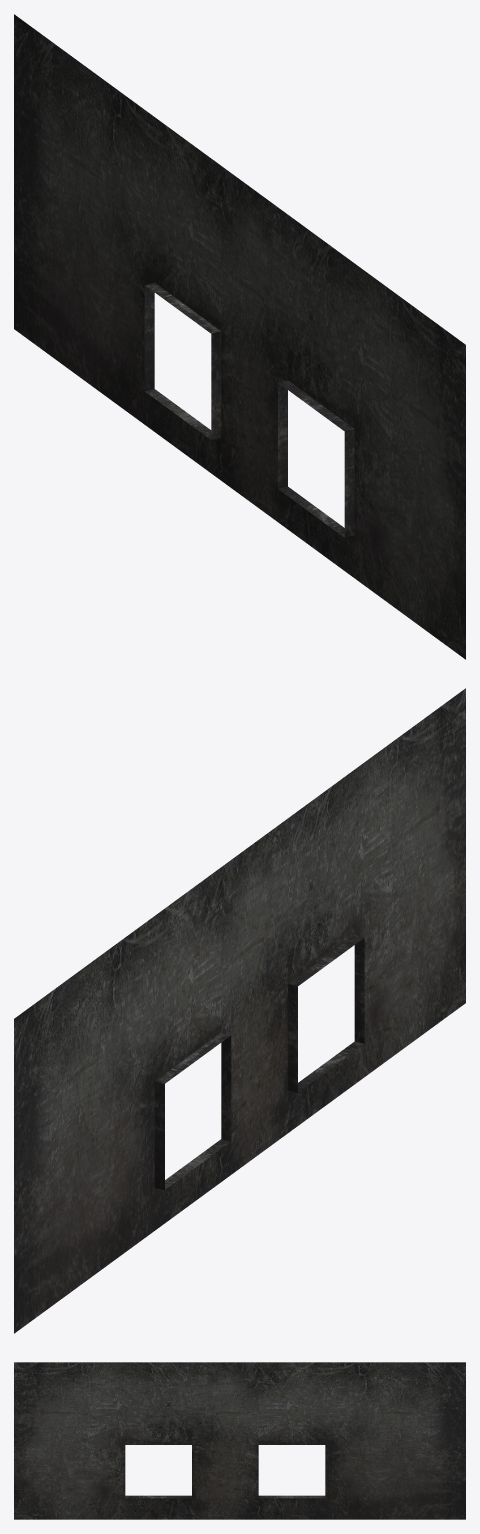
Rendered from Wall_01.FBX.
3 renders of one model, top to bottom at view 1: azimuth 30°, elevation 25°; view 2: azimuth 150°, elevation 25°; view 3: azimuth 270°, elevation 25°, orthographic. The views are drawn at different scales.
Visible parts, largest first — view 1: Wall_01; view 2: Wall_01; view 3: Wall_01.
Part boxes in pixels (x1,y1,x2,y2): Wall_01: [14, 14, 465, 659]; Wall_01: [14, 688, 465, 1333]; Wall_01: [14, 1362, 465, 1519].
Bounding box in the file's own units: 17.13 × 511 × 1330.
